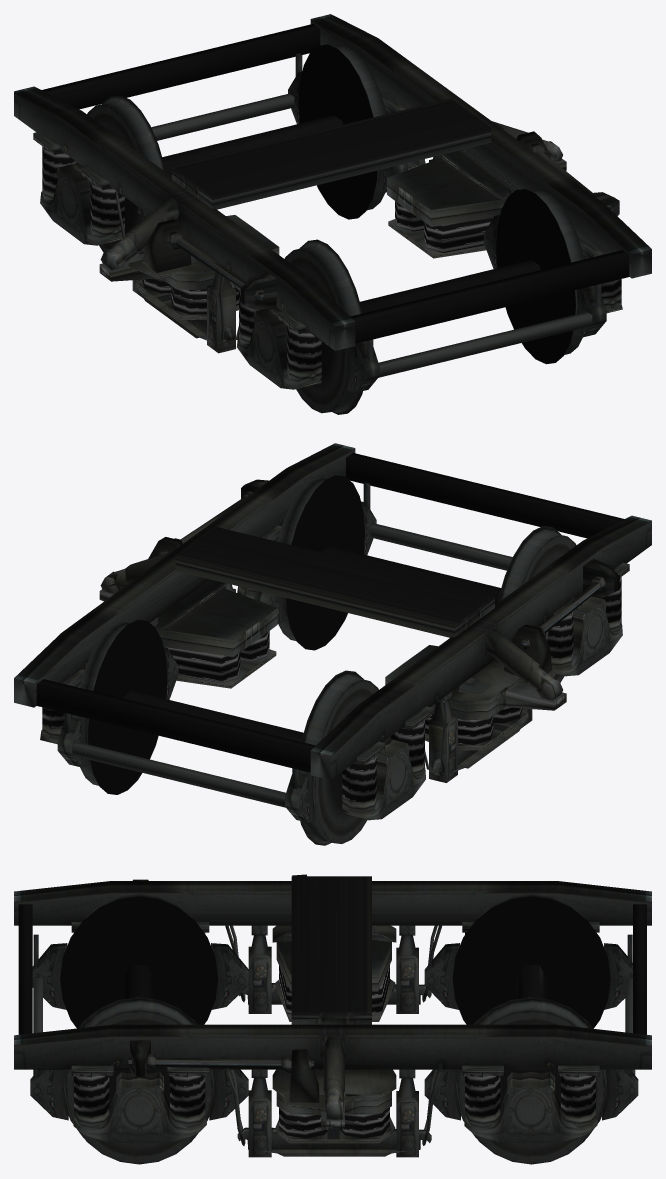
The model's file is 绿皮火车车厢 转向架.fbx.
3 views of the same model, one above another, from view 1: azimuth 30°, elevation 25°; view 2: azimuth 150°, elevation 25°; view 3: azimuth 270°, elevation 25° (orthographic).
Visible parts, largest first — view 1: 绿皮火车车厢 构架, 轮子1, 轮子2; view 2: 绿皮火车车厢 构架, 轮子2, 轮子1; view 3: 绿皮火车车厢 构架, 轮子2, 轮子1.
Part boxes in pixels (left/top/right/bottom): 绿皮火车车厢 构架: left=14, top=14, right=651, bottom=392; 轮子1: left=284, top=189, right=584, bottom=414; 轮子2: left=77, top=44, right=386, bottom=252; 绿皮火车车厢 构架: left=14, top=443, right=651, bottom=822; 轮子2: left=79, top=620, right=388, bottom=845; 轮子1: left=277, top=475, right=576, bottom=682; 绿皮火车车厢 构架: left=14, top=874, right=651, bottom=1157; 轮子2: left=452, top=894, right=610, bottom=1164; 轮子1: left=60, top=894, right=218, bottom=1164.
Size of the model in its own units: 319 by 112 by 390.
